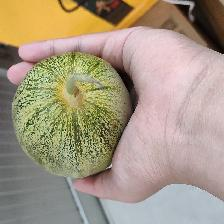gua: (32, 63, 118, 168)
